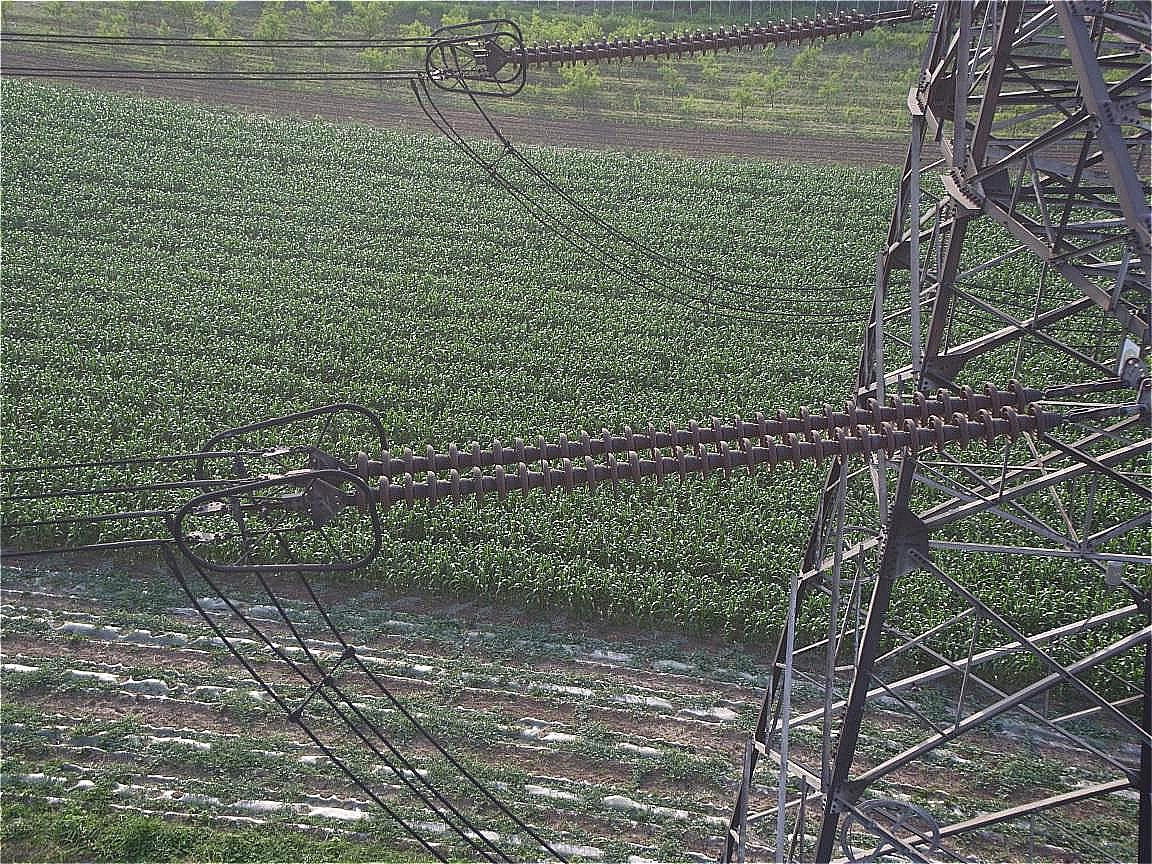insultor1: (338, 359, 1047, 503), (487, 5, 886, 68)
